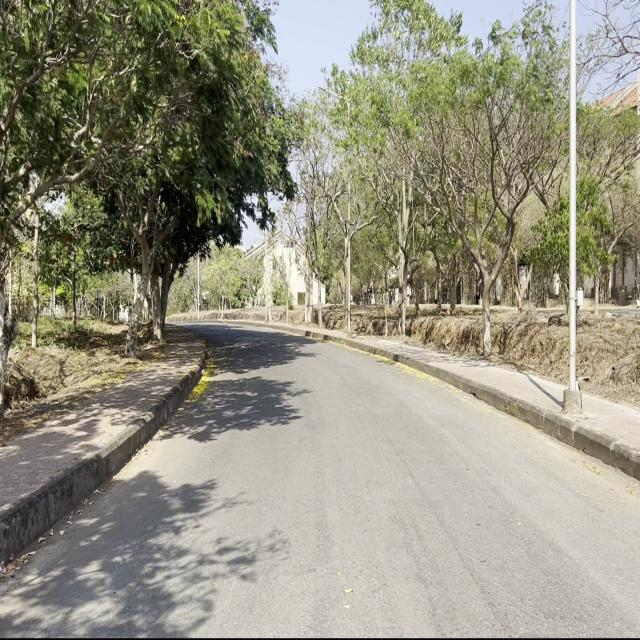Road: (5, 321, 634, 630)
